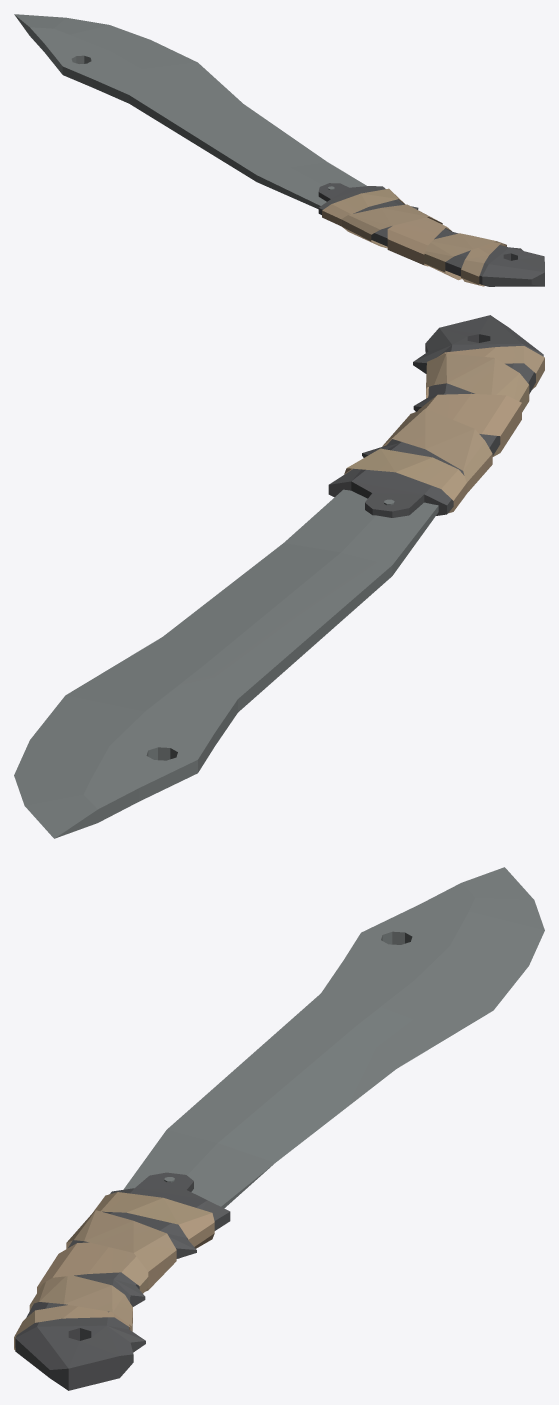
The model's file is Machete_001.glb.
3 views of the same model, one above another, from view 1: azimuth 30°, elevation 25°; view 2: azimuth 150°, elevation 25°; view 3: azimuth 330°, elevation 25° (orthographic). The views are drawn at different scales.
Parts seen in each view (by area): view 1: Machete.001; view 2: Machete.001; view 3: Machete.001.
Boxes of the visible parts, x1,y1,x2,y2 form: Machete.001: (14,14,544,286); Machete.001: (14,315,544,838); Machete.001: (14,867,544,1390).
Bounding box in the file's own units: 0.2231 × 0.0374 × 0.9475.
Materials: 1 (1 with a texture image).
